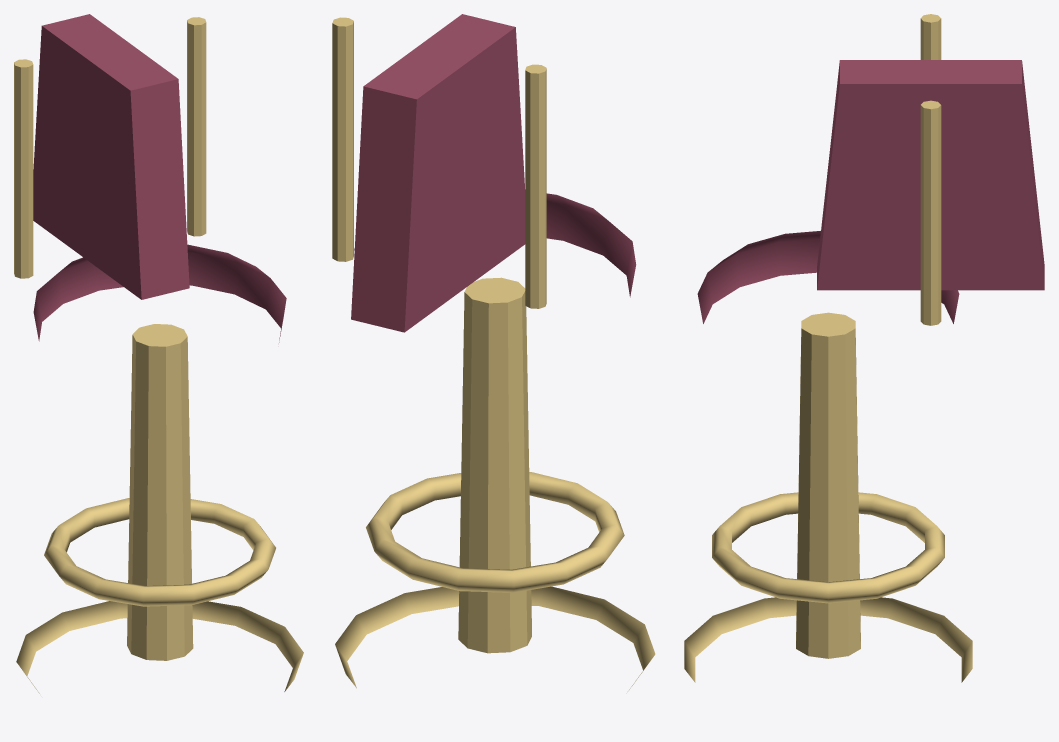
File: casStool.glb
The picture shows the model from 3 angles, left to right: view 1: azimuth 30°, elevation 25°; view 2: azimuth 150°, elevation 25°; view 3: azimuth 270°, elevation 25°; orthographic projection. The views are drawn at different scales.
Visible parts, largest first — view 1: player-stool; view 2: player-stool; view 3: player-stool.
Part boxes in pixels (x1,y1,x2,y2): player-stool: [14, 14, 303, 693]; player-stool: [332, 14, 655, 689]; player-stool: [684, 14, 1044, 682].
Bounding box in the file's own units: 0.52 × 1.18 × 0.6335.
